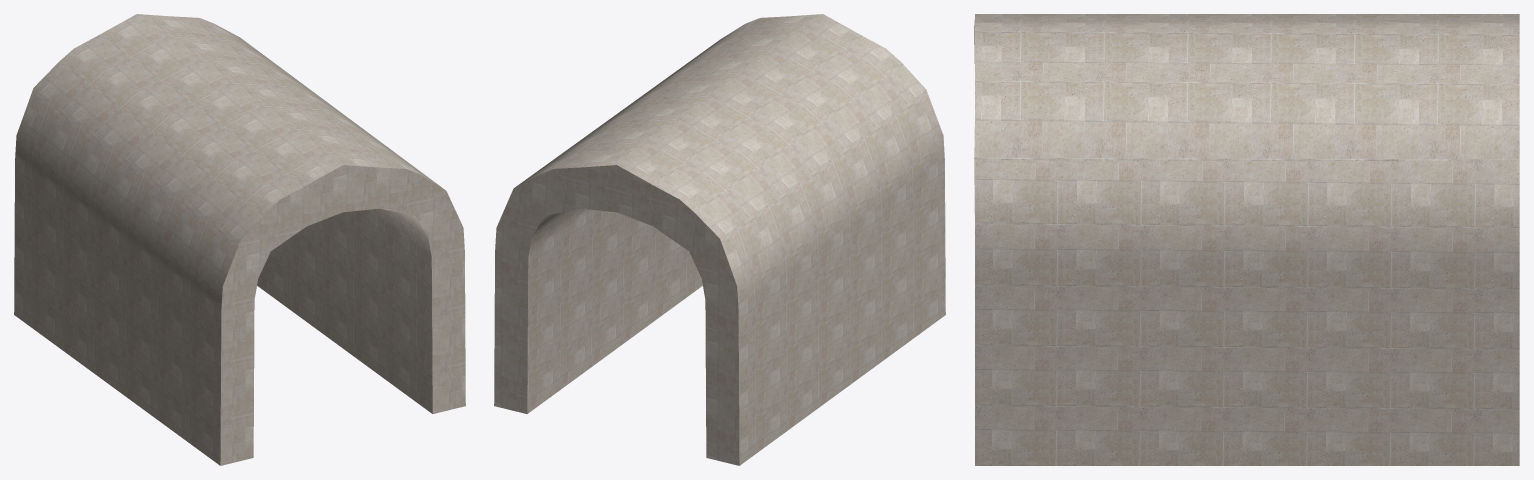
Rendered from tonnel.fbx.
The picture shows the model from 3 angles, left to right: view 1: azimuth 30°, elevation 25°; view 2: azimuth 150°, elevation 25°; view 3: azimuth 270°, elevation 25°; orthographic projection. The views are drawn at different scales.
Visible parts, largest first — view 1: Cube; view 2: Cube; view 3: Cube.
Boxes of the visible parts, x1,y1,x2,y2 form: Cube: [14, 14, 465, 465]; Cube: [494, 14, 945, 465]; Cube: [974, 14, 1519, 465].
Size of the model in its own units: 838 by 885 by 1222.
